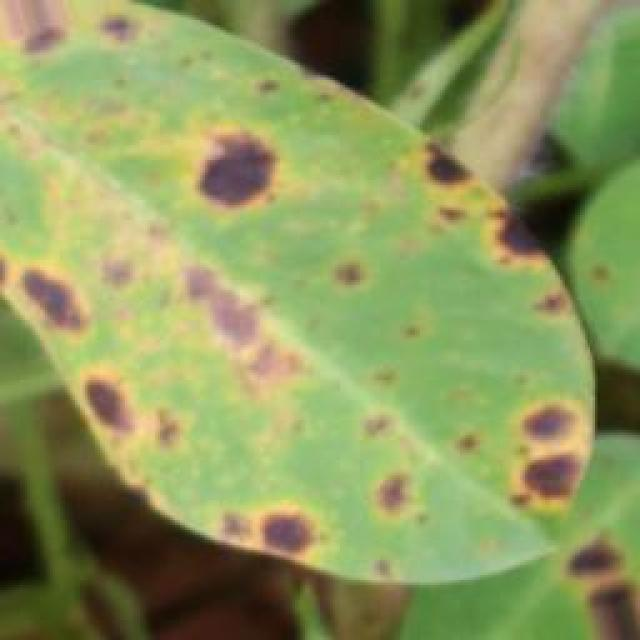Yellowish: (0, 5, 596, 587)
